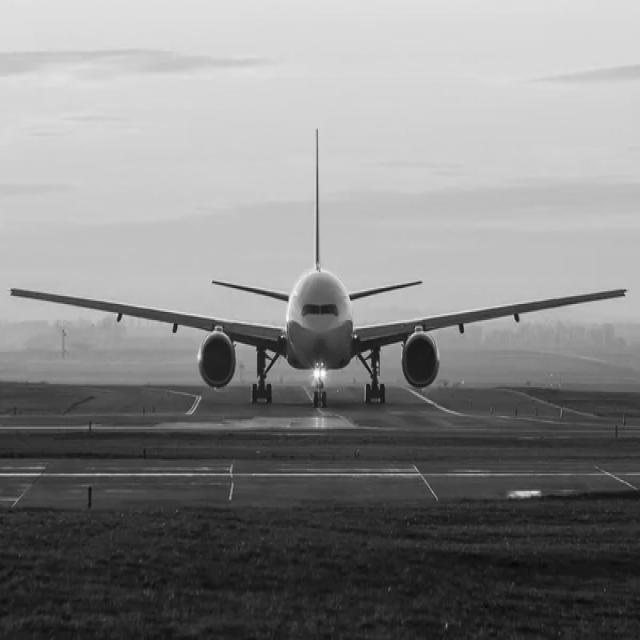Aircraft: (12, 115, 625, 421)
